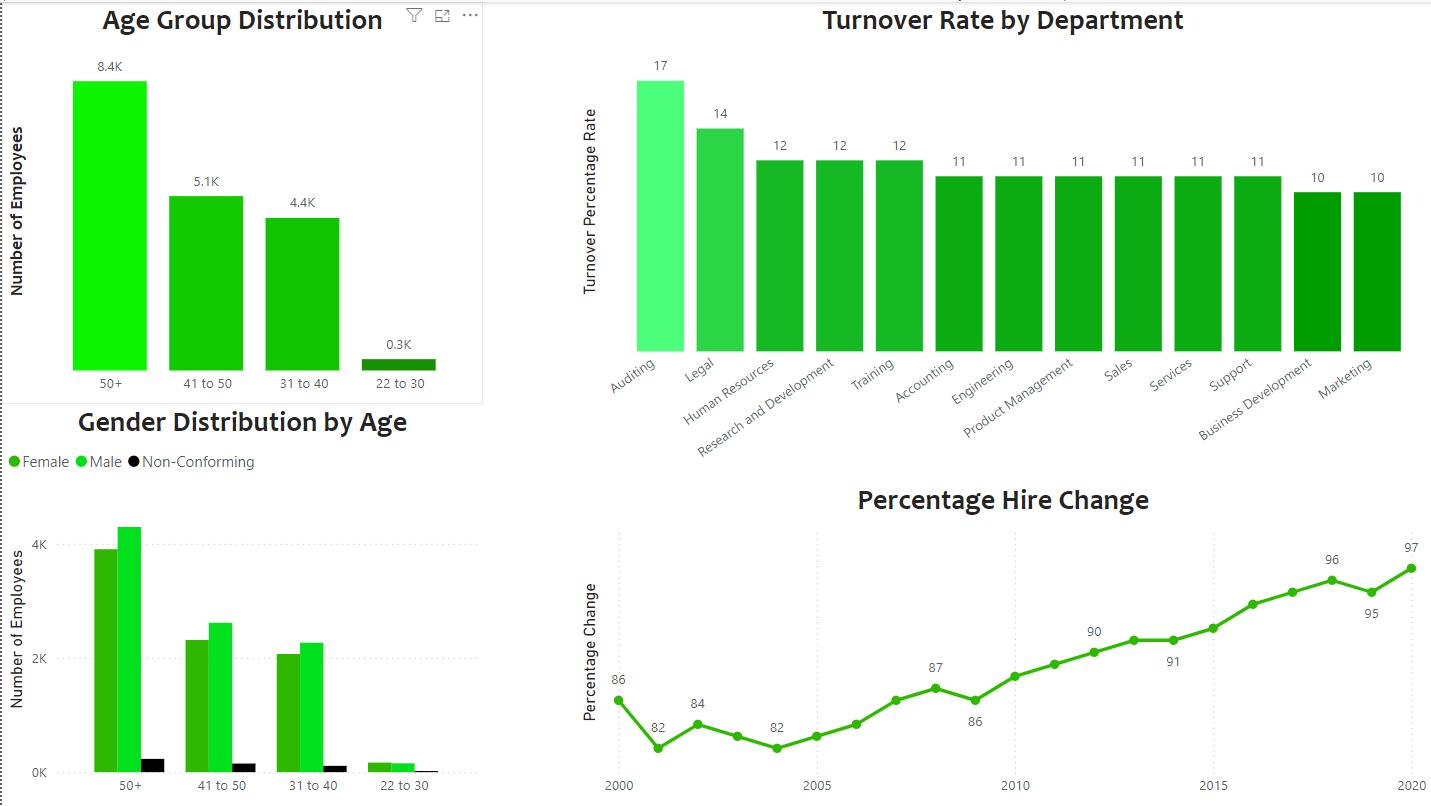

The page's visual inventory and layout, read from the dashboard file:
{"tool":"powerbi","page":{"name":"Page 2","canvas":[1280,720],"ordinal":1},"visuals":[{"type":"clusteredColumnChart","title":"Age Group Distribution","fields":{"Category":["Age Group Distribution.Column1"],"Y":["Sum(Age Group Distribution.Column2)"]},"box":[0,0,430.7,360],"z":0},{"type":"clusteredColumnChart","title":"Gender Distribution by Age","fields":{"Y":["Sum(Age Group Distribution by Gender.Column3)"],"Category":["Age Group Distribution by Gender.Column1"],"Series":["Age Group Distribution by Gender.Column2"]},"box":[0,360,430.7,360],"z":1000},{"type":"columnChart","title":"Turnover Rate by Department","fields":{"Category":["Turnover Rate.Column1"],"Y":["Sum(Turnover Rate.Column4)"]},"box":[513.1,0,766.6,429.9],"z":2000},{"type":"lineChart","title":"Percentage Hire Change","fields":{"Category":["Percentage Hire Change.Column1"],"Y":["Sum(Percentage Hire Change.Column5)"]},"box":[513,430,767,290],"z":3000}]}

Visuals, with their boxes in screenshot pixels (x1, y1, x2, y2), scaled from the page's 1280x720 canvas onto the 1431x806 screenshot:
"Age Group Distribution" clusteredColumnChart: (x1=0, y1=0, x2=482, y2=403)
"Gender Distribution by Age" clusteredColumnChart: (x1=0, y1=403, x2=482, y2=805)
"Turnover Rate by Department" columnChart: (x1=574, y1=0, x2=1430, y2=481)
"Percentage Hire Change" lineChart: (x1=574, y1=481, x2=1430, y2=805)
